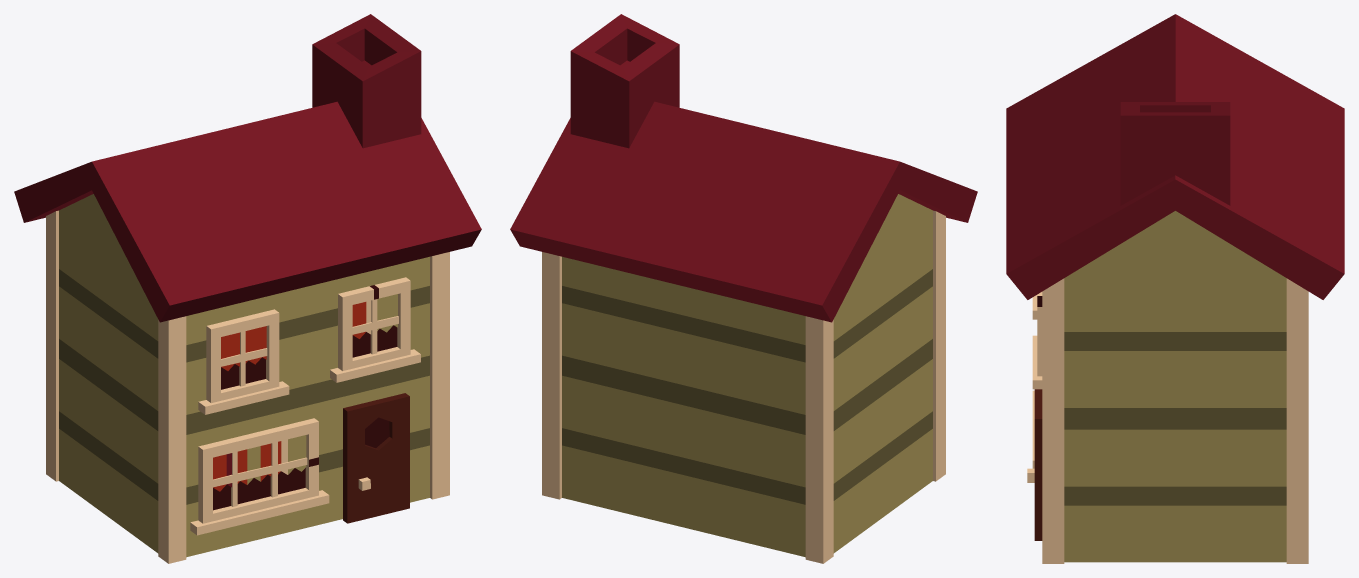
The model's file is House.FBX.
The picture shows the model from 3 angles, left to right: view 1: azimuth 30°, elevation 25°; view 2: azimuth 150°, elevation 25°; view 3: azimuth 270°, elevation 25°; orthographic projection. The views are drawn at different scales.
Parts seen in each view (by area): view 1: House; view 2: House; view 3: House.
Boxes of the visible parts, box(x1,y1,x2,y2) form: House: box(14, 14, 481, 563); House: box(510, 14, 977, 563); House: box(1006, 14, 1344, 563).
Size of the model in its own units: 266 by 339 by 230.
